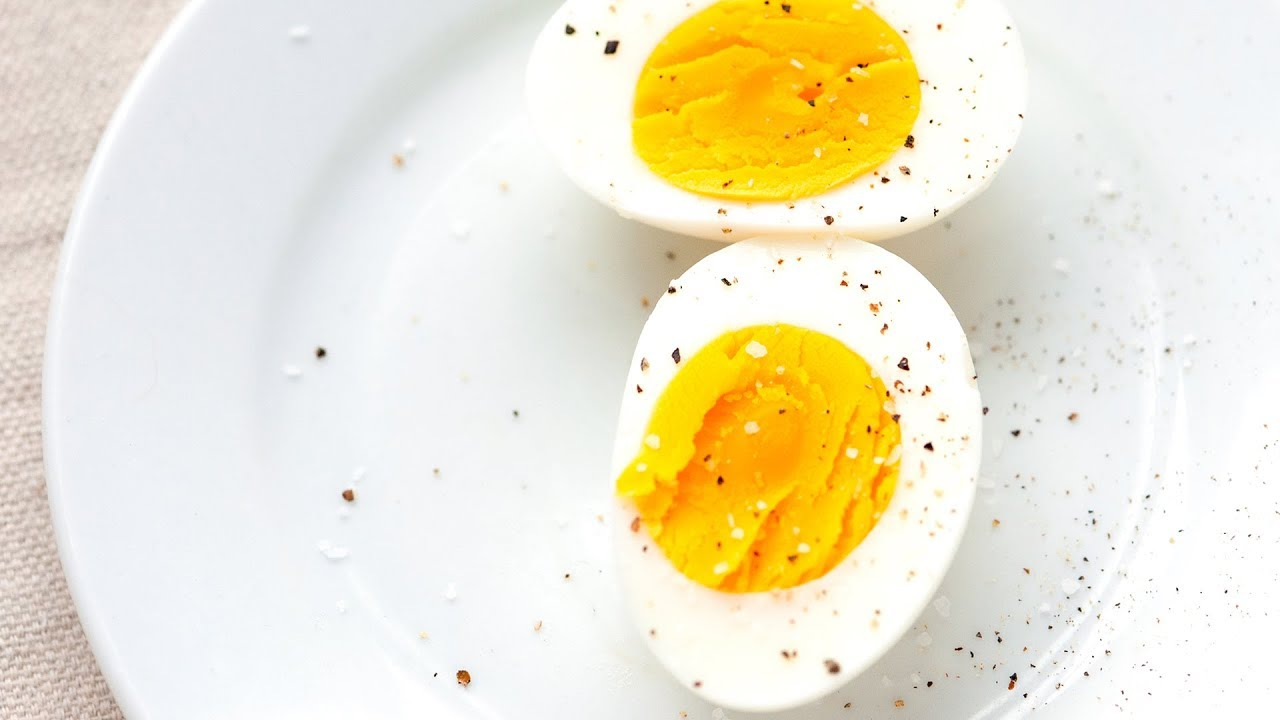egg: (559, 227, 1011, 716), (488, 1, 1085, 309)
